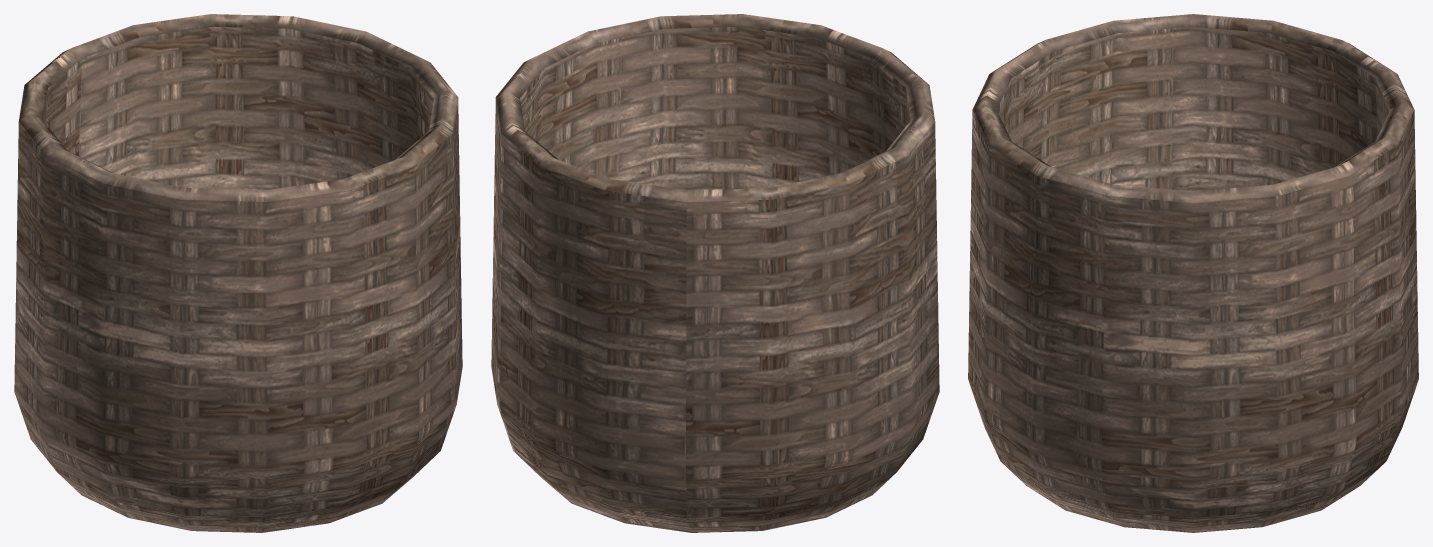
The model's file is Basket02.FBX.
3 views of the same model, side by side, from view 1: azimuth 30°, elevation 25°; view 2: azimuth 150°, elevation 25°; view 3: azimuth 270°, elevation 25° (orthographic).
Parts seen in each view (by area): view 1: Basket02; view 2: Basket02; view 3: Basket02.
Part boxes in pixels (x1,y1,x2,y2): Basket02: [14, 14, 462, 532]; Basket02: [491, 14, 939, 532]; Basket02: [968, 14, 1418, 532].
Bounding box in the file's own units: 13.44 × 13.44 × 11.96.
